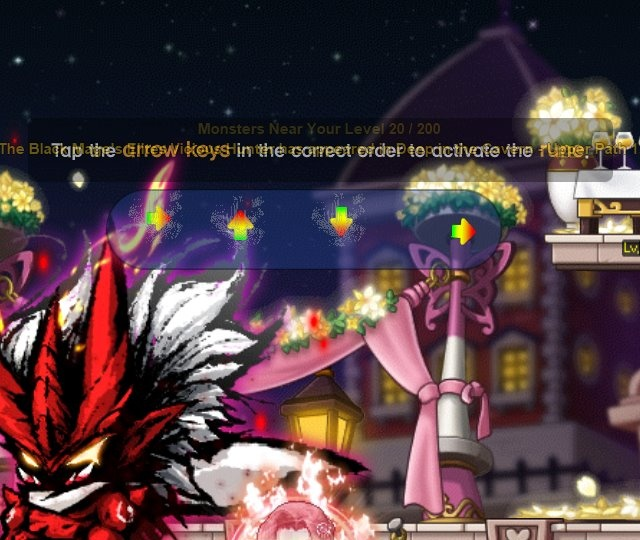rune_box: (97, 182, 521, 277)
